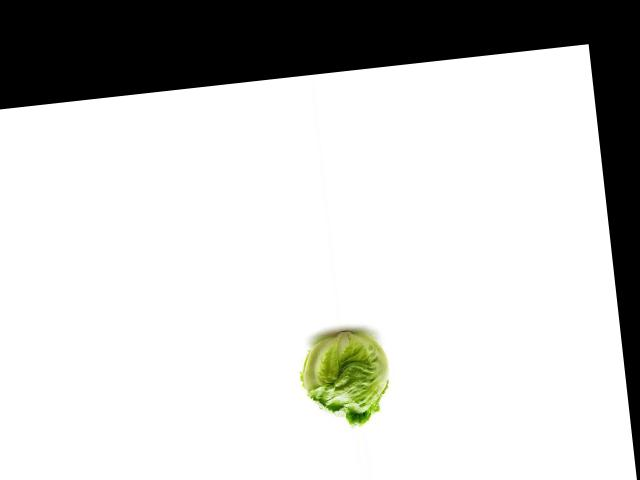lettuce: (287, 322, 397, 433)
